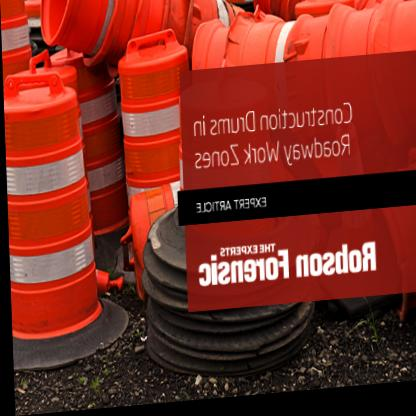obstacle: (3, 72, 99, 341)
